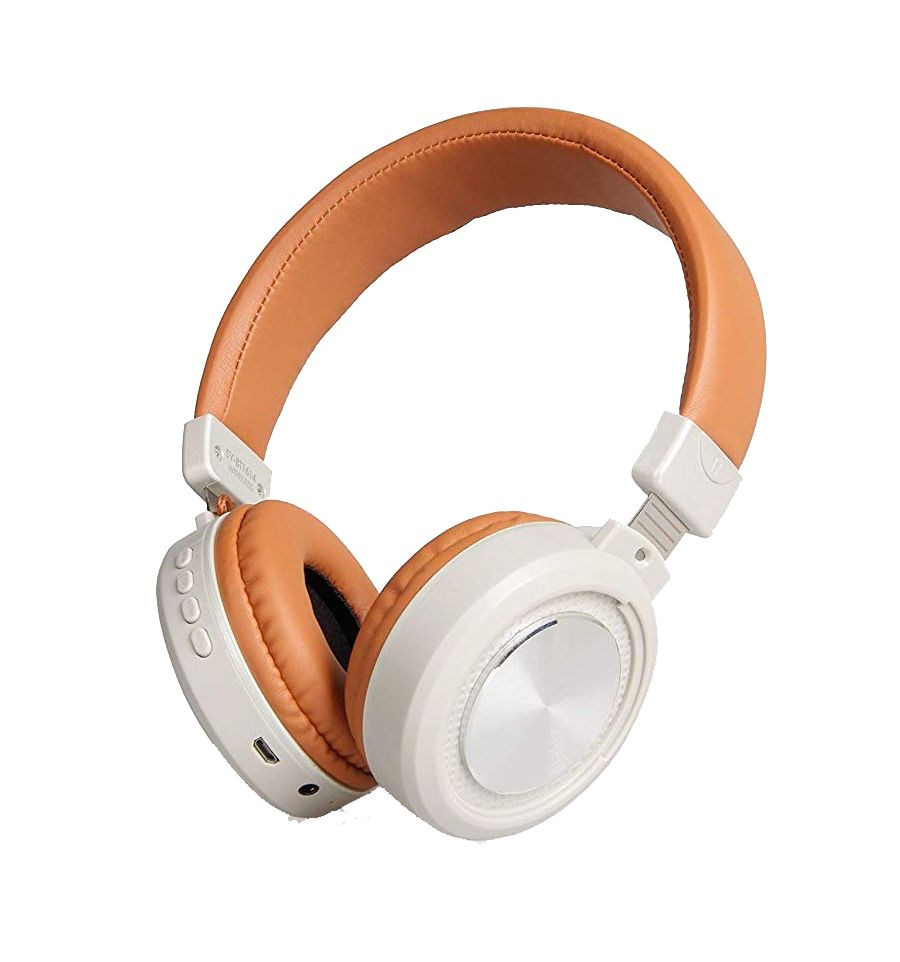Headphone: (137, 99, 773, 851)
